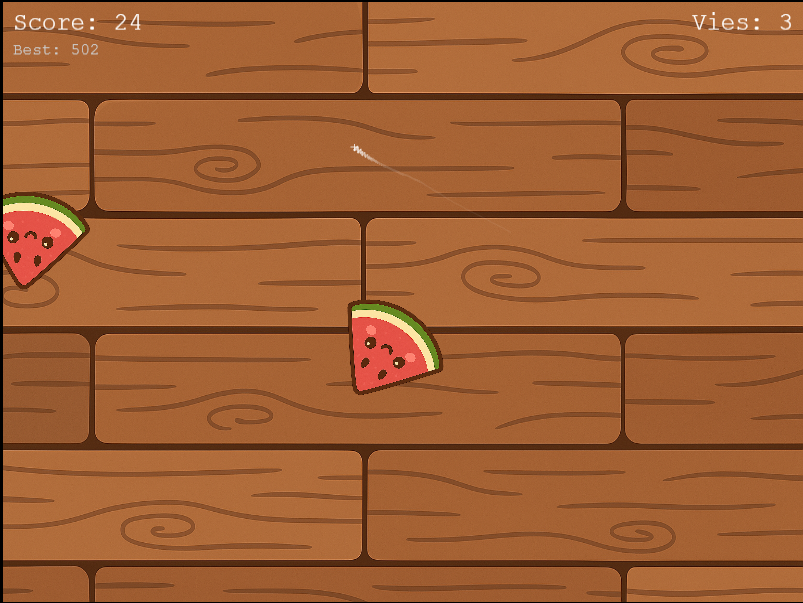fruit: (340, 295, 450, 405), (1, 188, 105, 293)
